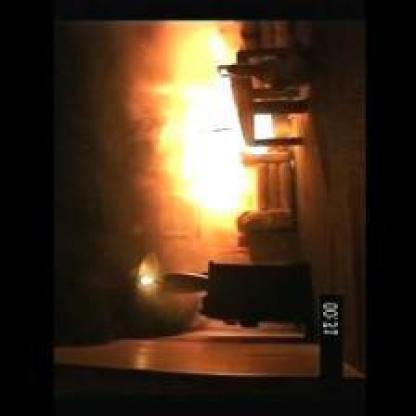Fire: (74, 18, 266, 236)
